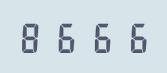eight: (18, 20, 49, 53)
six: (50, 20, 81, 53), (82, 20, 113, 53), (114, 20, 145, 53)
